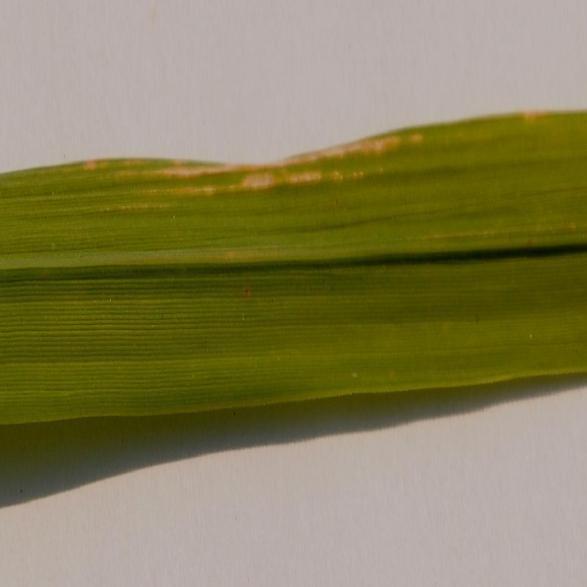Bacteria_Leaf_Blight: (63, 116, 477, 185)
